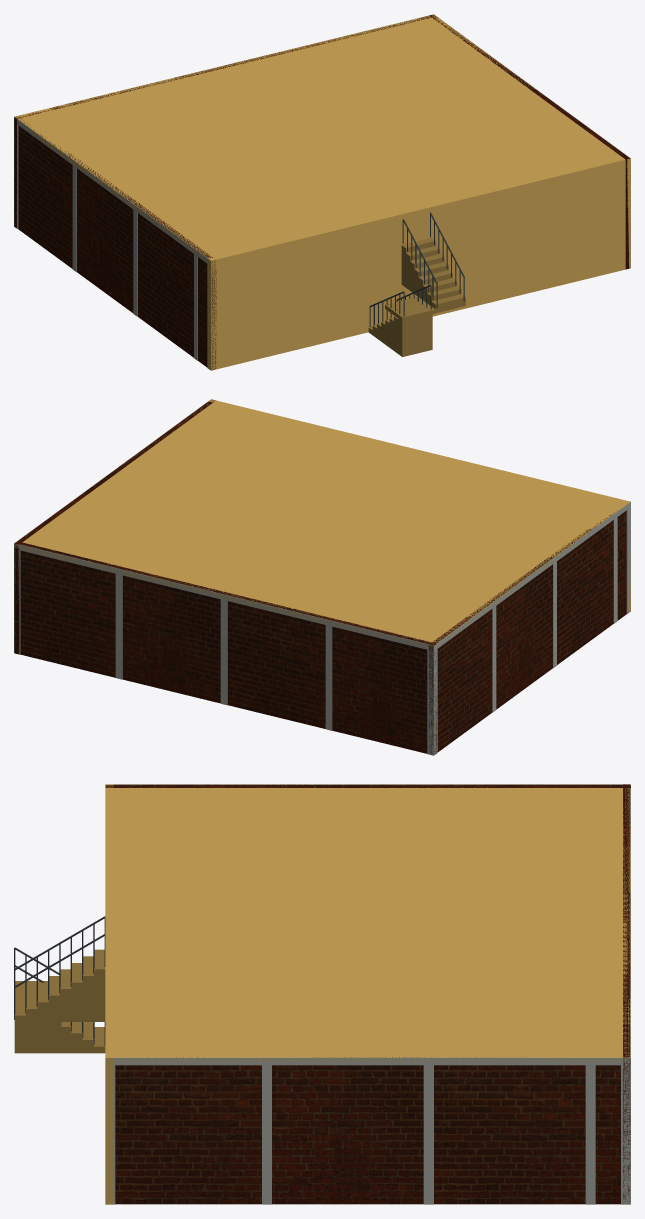
File: building.glb
3 renders of one model, top to bottom at view 1: azimuth 30°, elevation 25°; view 2: azimuth 150°, elevation 25°; view 3: azimuth 270°, elevation 25°, orthographic. The views are drawn at different scales.
Parts seen in each view (by area): view 1: roof/house:0/roof_slab#0001, house:0/edge0/z0/house:0/edge0/z0/wall_0_0, house:0/edge3/z0/house:0/edge3/z0/wall_0_0, house:0/edge0/z0/stair_00/exterior_stair_step#0008, house:0/edge1/z0/house:0/edge1/z0/wall_0_0, house:0/edge2/z0/house:0/edge2/z0/wall_0_0, house:0/edge3/z0/house:0/edge3/z0/beam_0_0, house:0/edge0/z0/stair_00/exterior_stair_landing#0001, house:0/edge3/z0/house:0/edge3/z0/column_2_0, house:0/edge3/z0/house:0/edge3/z0/column_3_0; view 2: roof/house:0/roof_slab#0001, house:0/edge2/z0/house:0/edge2/z0/wall_0_0, house:0/edge3/z0/house:0/edge3/z0/wall_0_0, house:0/edge2/z0/house:0/edge2/z0/beam_0_0, house:0/edge1/z0/house:0/edge1/z0/wall_0_0, house:0/edge0/z0/house:0/edge0/z0/wall_0_0, house:0/edge3/z0/house:0/edge3/z0/beam_0_0, house:0/edge2/z0/house:0/edge2/z0/column_3_0, house:0/edge2/z0/house:0/edge2/z0/column_2_0, house:0/edge2/z0/house:0/edge2/z0/column_4_0, house:0/edge2/z0/house:0/edge2/z0/column_1_0, house:0/edge3/z0/house:0/edge3/z0/column_4_0 (+2 smaller); view 3: roof/house:0/roof_slab#0001, house:0/edge1/z0/house:0/edge1/z0/wall_0_0, house:0/edge1/z0/house:0/edge1/z0/beam_0_0, house:0/edge0/z0/house:0/edge0/z0/wall_0_0, house:0/edge2/z0/house:0/edge2/z0/wall_0_0, house:0/edge3/z0/house:0/edge3/z0/wall_0_0, house:0/edge1/z0/house:0/edge1/z0/column_3_0, house:0/edge1/z0/house:0/edge1/z0/column_4_0, house:0/edge1/z0/house:0/edge1/z0/column_1_0, house:0/edge1/z0/house:0/edge1/z0/column_2_0, house:0/edge0/z0/stair_00/exterior_stair_step#0016, house:0/edge0/z0/stair_00/exterior_stair_step#0015 (+3 smaller).
Part boxes in pixels (bbox=[...]): roof/house:0/roof_slab#0001: bbox=[14, 14, 630, 260]; house:0/edge0/z0/house:0/edge0/z0/wall_0_0: bbox=[208, 157, 630, 370]; house:0/edge3/z0/house:0/edge3/z0/wall_0_0: bbox=[18, 118, 216, 369]; house:0/edge0/z0/stair_00/exterior_stair_step#0008: bbox=[398, 307, 432, 356]; house:0/edge1/z0/house:0/edge1/z0/wall_0_0: bbox=[429, 14, 630, 269]; house:0/edge2/z0/house:0/edge2/z0/wall_0_0: bbox=[14, 15, 435, 228]; house:0/edge3/z0/house:0/edge3/z0/beam_0_0: bbox=[14, 119, 210, 263]; house:0/edge0/z0/stair_00/exterior_stair_landing#0001: bbox=[385, 297, 465, 319]; house:0/edge3/z0/house:0/edge3/z0/column_2_0: bbox=[72, 165, 76, 272]; house:0/edge3/z0/house:0/edge3/z0/column_3_0: bbox=[133, 210, 137, 316]; roof/house:0/roof_slab#0001: bbox=[14, 401, 627, 648]; house:0/edge2/z0/house:0/edge2/z0/wall_0_0: bbox=[20, 542, 436, 754]; house:0/edge3/z0/house:0/edge3/z0/wall_0_0: bbox=[428, 510, 626, 754]; house:0/edge2/z0/house:0/edge2/z0/beam_0_0: bbox=[14, 543, 434, 650]; house:0/edge1/z0/house:0/edge1/z0/wall_0_0: bbox=[14, 399, 215, 654]; house:0/edge0/z0/house:0/edge0/z0/wall_0_0: bbox=[208, 399, 630, 612]; house:0/edge3/z0/house:0/edge3/z0/beam_0_0: bbox=[433, 502, 630, 650]; house:0/edge2/z0/house:0/edge2/z0/column_3_0: bbox=[220, 599, 227, 705]; house:0/edge2/z0/house:0/edge2/z0/column_2_0: bbox=[115, 574, 122, 679]; house:0/edge2/z0/house:0/edge2/z0/column_4_0: bbox=[325, 625, 332, 730]; house:0/edge2/z0/house:0/edge2/z0/column_1_0: bbox=[427, 650, 434, 755]; house:0/edge3/z0/house:0/edge3/z0/column_4_0: bbox=[613, 517, 617, 623]; roof/house:0/roof_slab#0001: bbox=[105, 784, 630, 1062]; house:0/edge1/z0/house:0/edge1/z0/wall_0_0: bbox=[115, 1057, 620, 1204]; house:0/edge1/z0/house:0/edge1/z0/beam_0_0: bbox=[105, 1057, 630, 1065]; house:0/edge0/z0/house:0/edge0/z0/wall_0_0: bbox=[105, 784, 113, 1204]; house:0/edge2/z0/house:0/edge2/z0/wall_0_0: bbox=[623, 784, 630, 1201]; house:0/edge3/z0/house:0/edge3/z0/wall_0_0: bbox=[105, 784, 630, 787]; house:0/edge1/z0/house:0/edge1/z0/column_3_0: bbox=[423, 1065, 433, 1204]; house:0/edge1/z0/house:0/edge1/z0/column_4_0: bbox=[585, 1065, 595, 1204]; house:0/edge1/z0/house:0/edge1/z0/column_1_0: bbox=[621, 1065, 630, 1204]; house:0/edge1/z0/house:0/edge1/z0/column_2_0: bbox=[262, 1065, 271, 1204]; house:0/edge0/z0/stair_00/exterior_stair_step#0016: bbox=[94, 949, 105, 1021]; house:0/edge0/z0/stair_00/exterior_stair_step#0015: bbox=[82, 956, 93, 1021].
Bounding box in the file's own units: 16 × 4 × 15.26.
5 materials, 1 textured.
